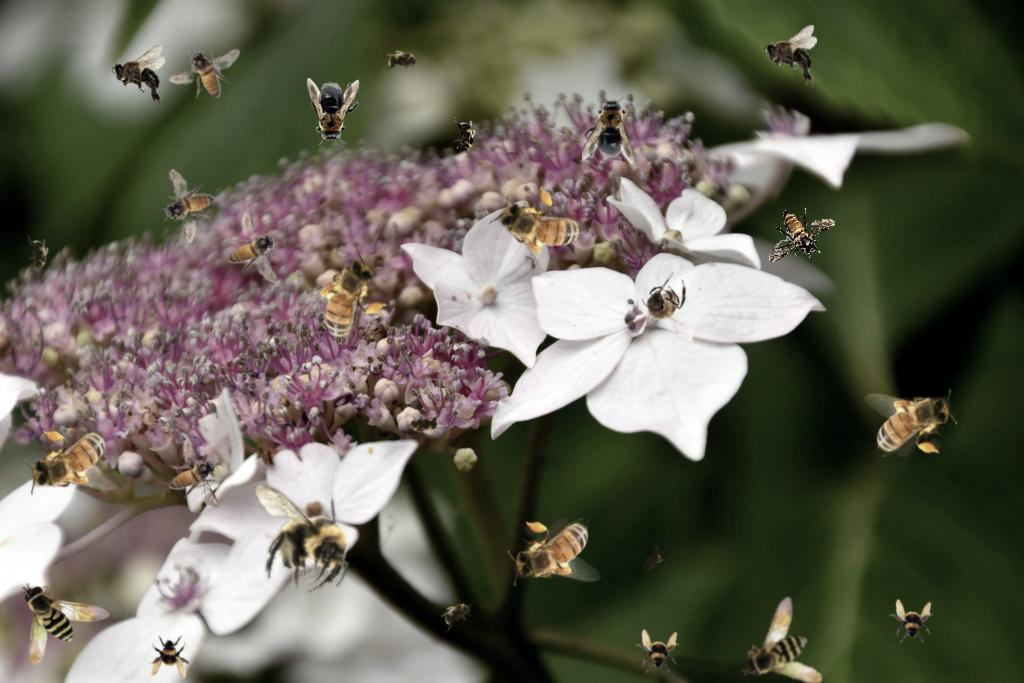Bee: (225, 464, 372, 607), (483, 170, 599, 285), (288, 243, 404, 356), (739, 589, 839, 683), (22, 583, 110, 665), (508, 518, 601, 586), (864, 389, 957, 457), (25, 427, 118, 495), (157, 168, 219, 247), (762, 203, 840, 264), (632, 272, 693, 342), (581, 94, 637, 164), (169, 48, 240, 98), (169, 438, 219, 509), (228, 212, 278, 283), (307, 78, 359, 146), (112, 45, 165, 107), (764, 25, 817, 87), (635, 629, 679, 673), (889, 599, 933, 643), (149, 635, 193, 679), (631, 536, 673, 582), (435, 594, 481, 634), (383, 50, 423, 72), (404, 413, 444, 435), (454, 117, 476, 157), (27, 235, 49, 275)
